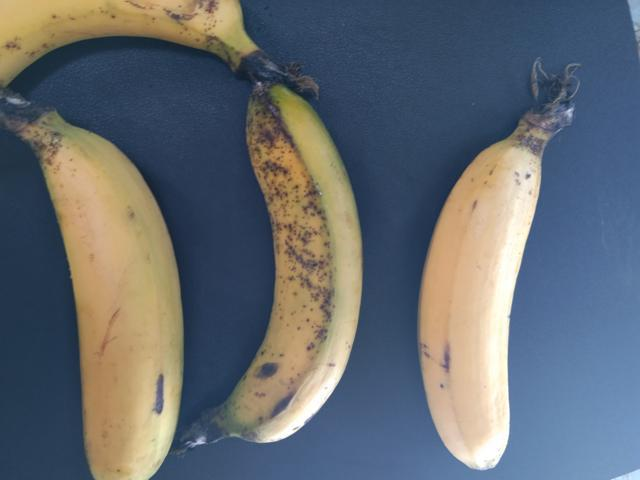freshripe: (395, 125, 593, 479), (28, 112, 177, 479)
ripe: (201, 87, 417, 440)
